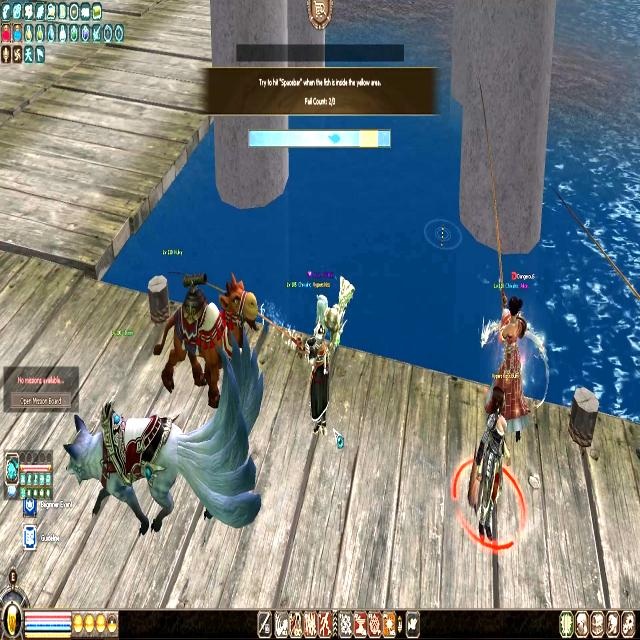fishes: (328, 130, 342, 146)
